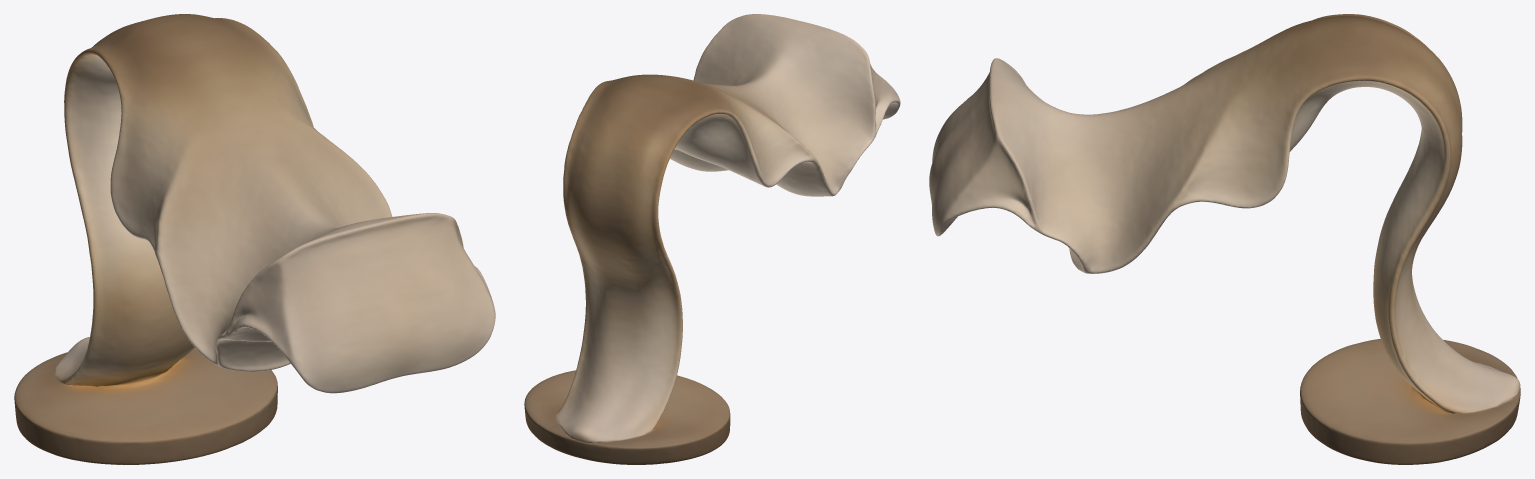
Rendered from 3d304f66-e0b4-44df-b754-f07198458f0c-base_basic_pbr.glb.
3 views of the same model, side by side, from view 1: azimuth 30°, elevation 25°; view 2: azimuth 150°, elevation 25°; view 3: azimuth 270°, elevation 25° (orthographic). The views are drawn at different scales.
Parts seen in each view (by area): view 1: model; view 2: model; view 3: model.
Part boxes in pixels (<box>): model: <box>14,14,495,464</box>; model: <box>524,14,900,464</box>; model: <box>929,14,1520,464</box>.
Size of the model in its own units: 0.8168 by 1.36 by 1.9.
Materials: 1 (1 with a texture image).
